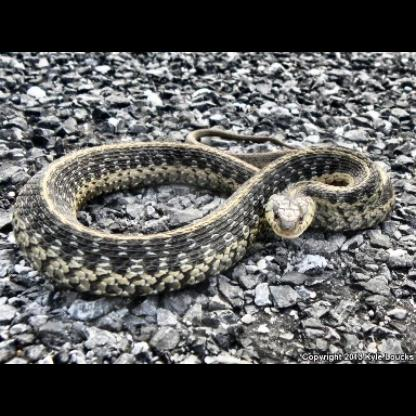Snake: (13, 117, 414, 314)
